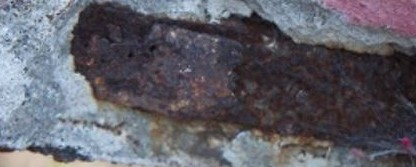Exposed reinforcement: (68, 2, 416, 151)
